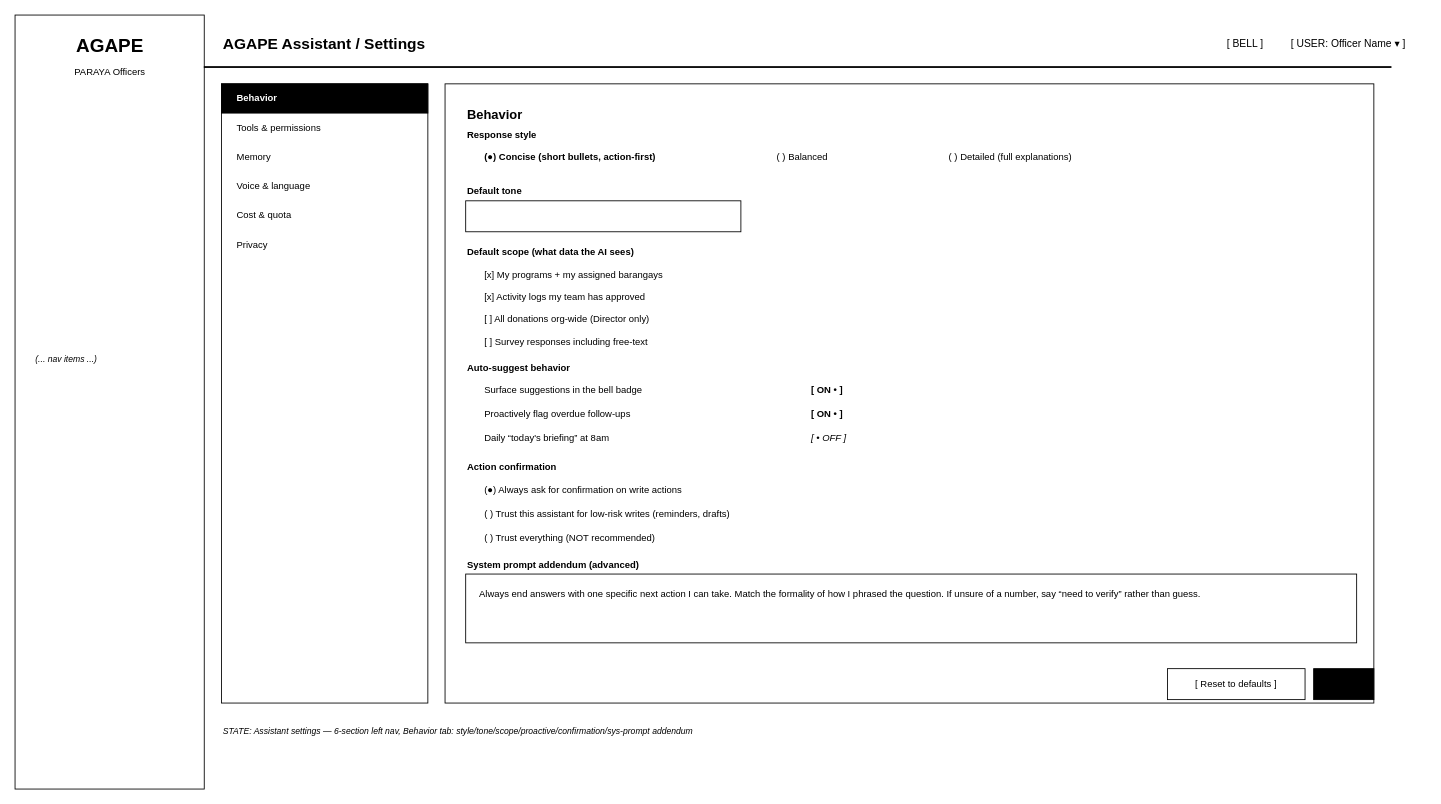
This 1441x804 diagram has some shape labels left out. Here are the shapes that lost their labels. From the top down, the centre of each, then its label:
At pixel 603 216: "Formal Filipino-English ▾".
At pixel 1343 684: "[ Save ]".
